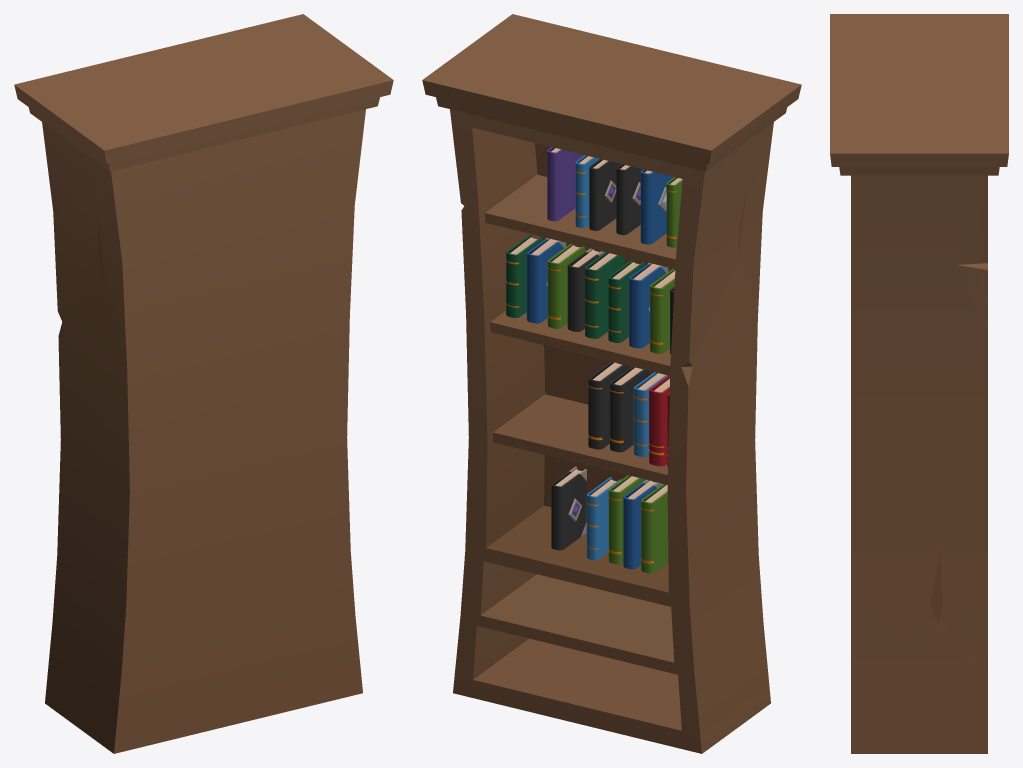
Rendered from ShelfPattern_05.fbx.
3 renders of one model, left to right at view 1: azimuth 30°, elevation 25°; view 2: azimuth 150°, elevation 25°; view 3: azimuth 270°, elevation 25°, orthographic.
Visible parts, largest first — view 1: ShelfPattern_05; view 2: ShelfPattern_05; view 3: ShelfPattern_05.
Boxes of the visible parts, bbox=[...] form: ShelfPattern_05: bbox=[14, 14, 393, 753]; ShelfPattern_05: bbox=[422, 14, 801, 753]; ShelfPattern_05: bbox=[830, 14, 1008, 753].
Size of the model in its own units: 99.08 by 202 by 53.61.
